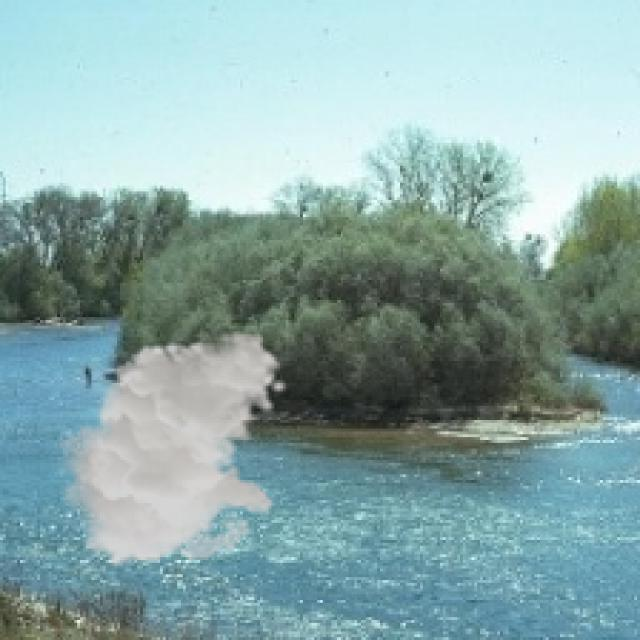smoke: (52, 332, 288, 568)
